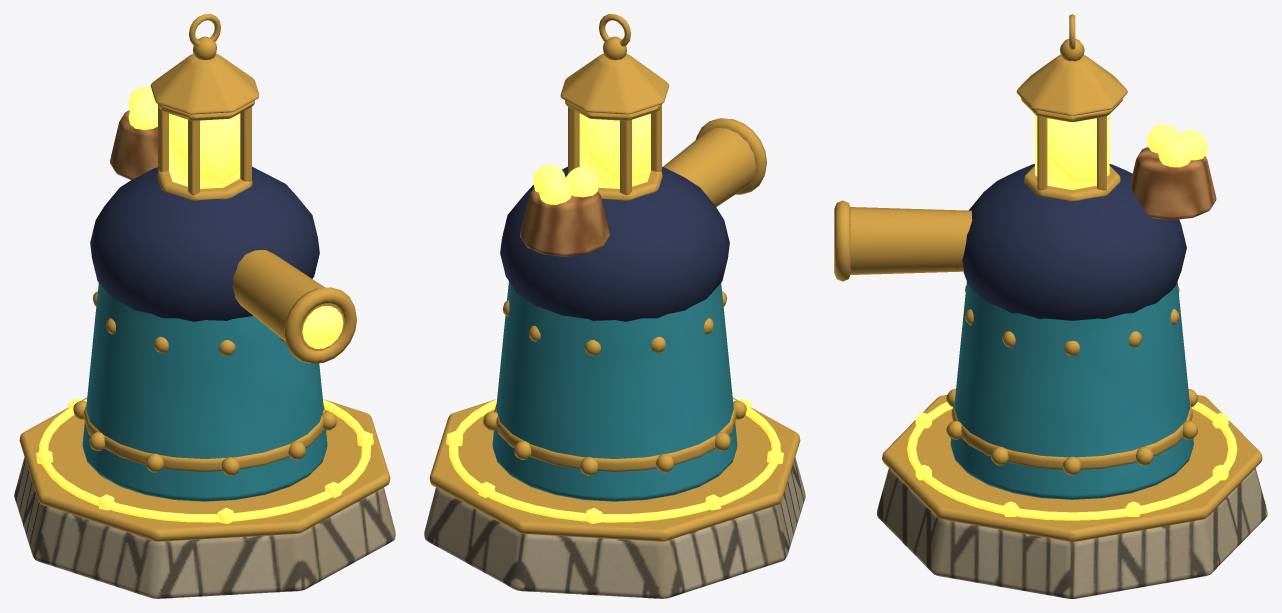
The model's file is pebble_popper.glb.
The picture shows the model from 3 angles, left to right: view 1: azimuth 30°, elevation 25°; view 2: azimuth 150°, elevation 25°; view 3: azimuth 270°, elevation 25°; orthographic projection.
Parts seen in each view (by area): view 1: pebble_popper; view 2: pebble_popper; view 3: pebble_popper.
Boxes of the visible parts, x1,y1,x2,y2 form: pebble_popper: [14, 14, 395, 598]; pebble_popper: [424, 14, 805, 598]; pebble_popper: [834, 14, 1267, 598].
Bounding box in the file's own units: 1.02 × 1.45 × 1.13.
Materials: 5 (1 with a texture image).
